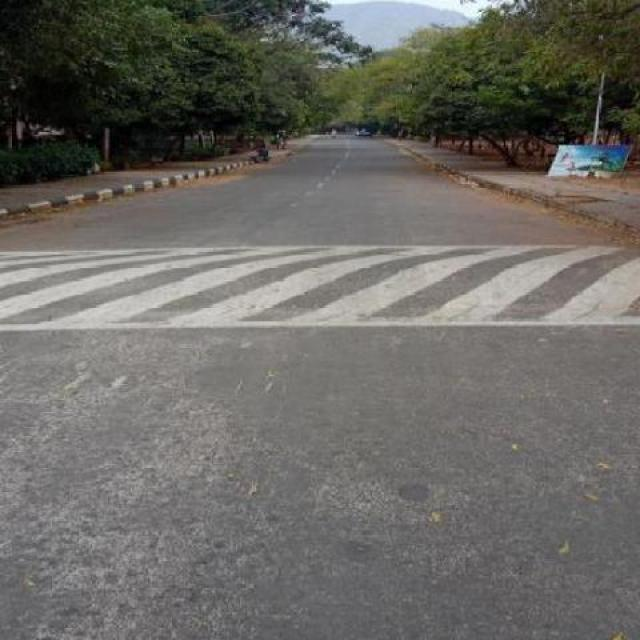Pothole: (393, 478, 439, 506)
Speed Bump: (1, 241, 639, 335)
